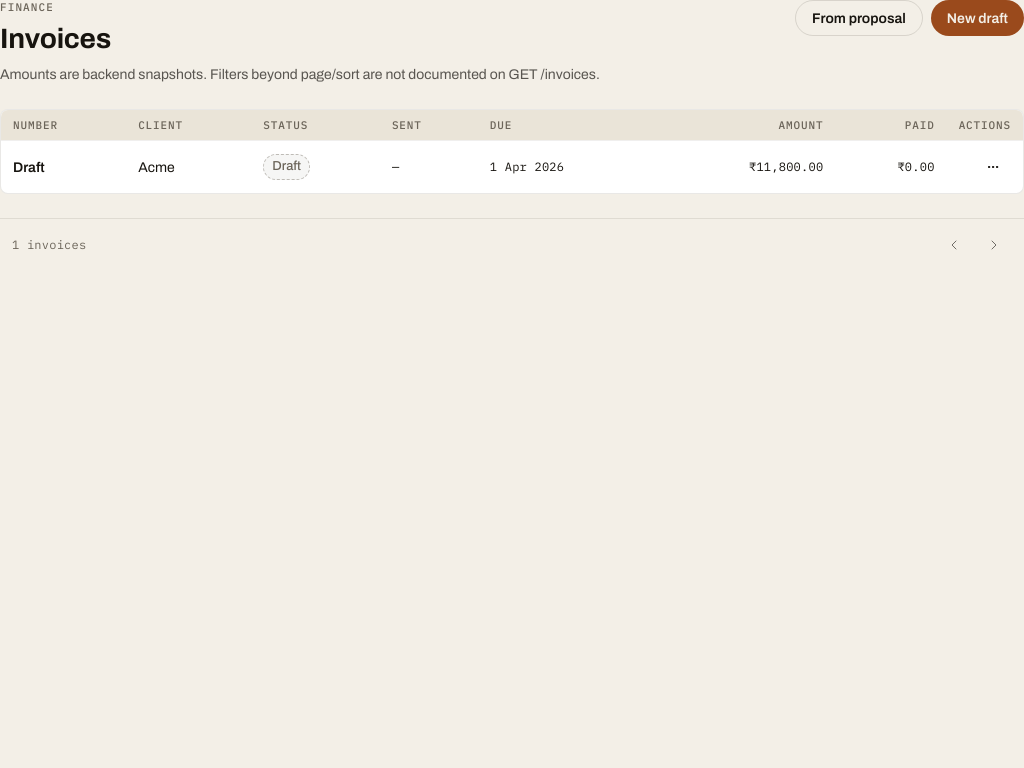
Scenario: Invoices list › validates company on create
Click the button "New draft": (977, 18) [931,0,1023,36]
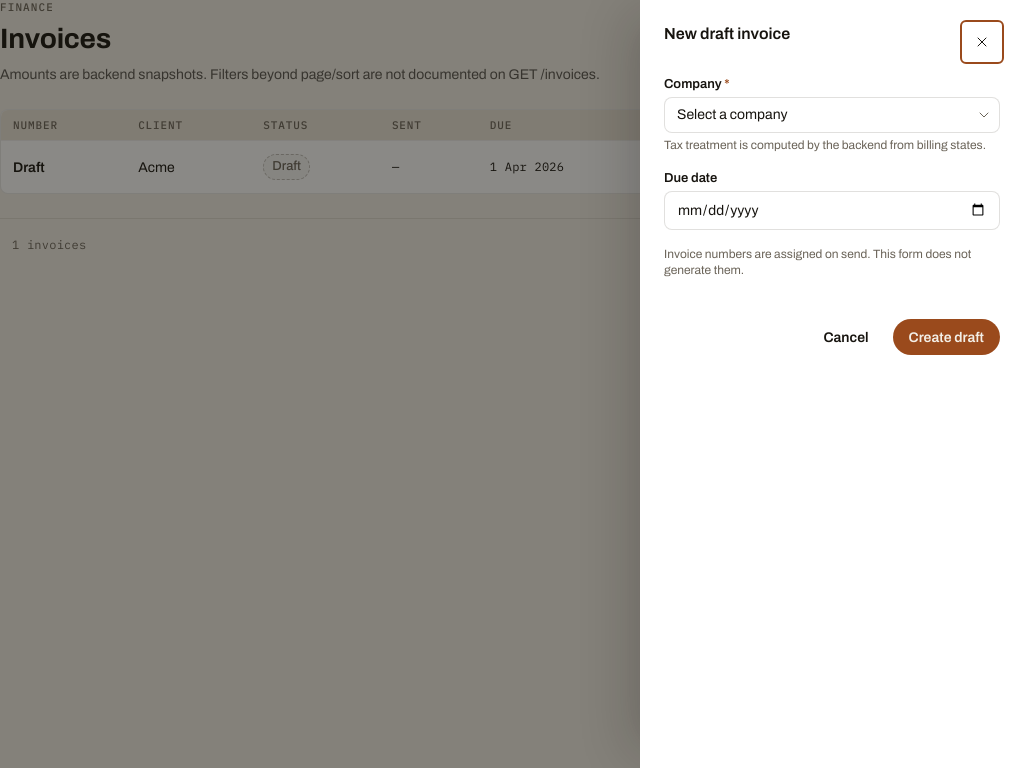
Click the button "Create draft": (946, 337) [893,319,1000,355]
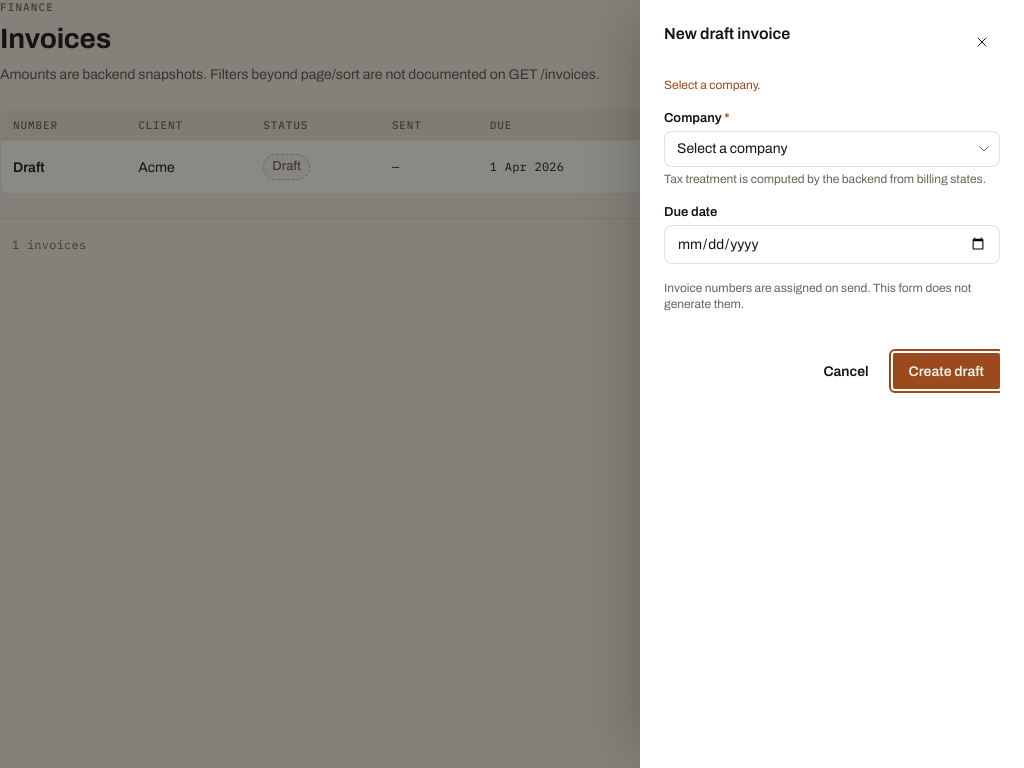
Now the text "Select a company." is shown, box [664,78,761,92]
